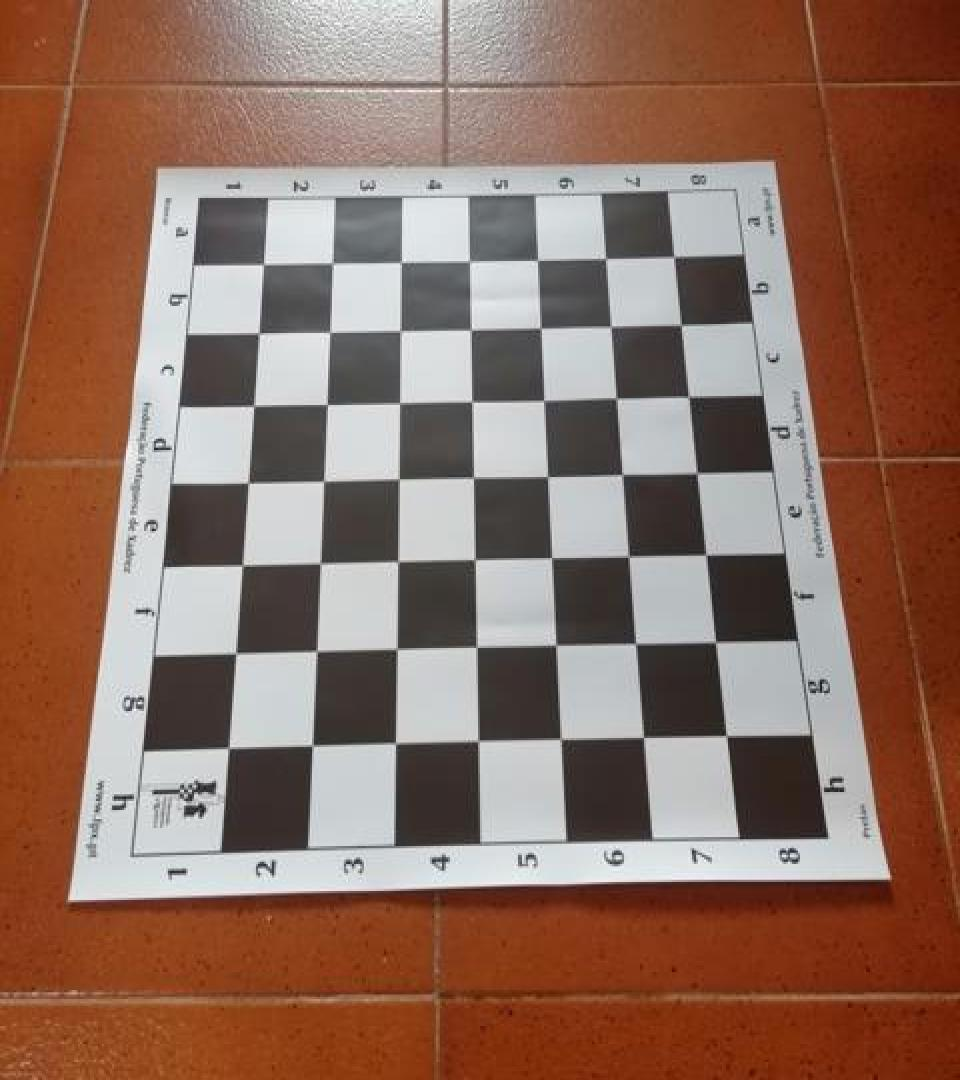xcorner: (661, 237, 689, 269), (592, 238, 620, 270), (387, 243, 415, 275), (319, 244, 347, 276), (251, 245, 279, 277), (598, 307, 626, 339), (527, 308, 555, 340), (457, 309, 485, 341), (386, 310, 414, 342), (676, 378, 704, 410), (603, 379, 631, 411), (531, 380, 559, 412), (458, 382, 486, 414), (240, 387, 268, 419), (685, 454, 713, 486), (459, 459, 487, 491), (384, 461, 412, 493), (309, 462, 337, 494), (538, 540, 566, 572), (461, 542, 489, 574), (383, 543, 411, 575), (704, 625, 732, 657), (462, 631, 490, 663), (382, 632, 410, 664), (301, 634, 329, 666), (714, 720, 742, 752), (631, 722, 659, 754), (547, 724, 575, 756), (297, 729, 325, 761), (213, 731, 241, 763), (524, 240, 552, 271), (456, 242, 484, 273), (668, 305, 696, 336), (316, 313, 344, 344), (245, 314, 273, 345), (385, 384, 413, 415), (312, 385, 340, 416), (610, 457, 638, 488), (534, 458, 562, 489), (234, 465, 262, 496), (694, 537, 722, 568), (616, 539, 644, 570), (305, 546, 333, 577), (227, 547, 255, 578), (623, 628, 651, 659), (543, 629, 571, 660), (220, 636, 248, 667), (464, 726, 492, 757), (380, 728, 408, 759)
